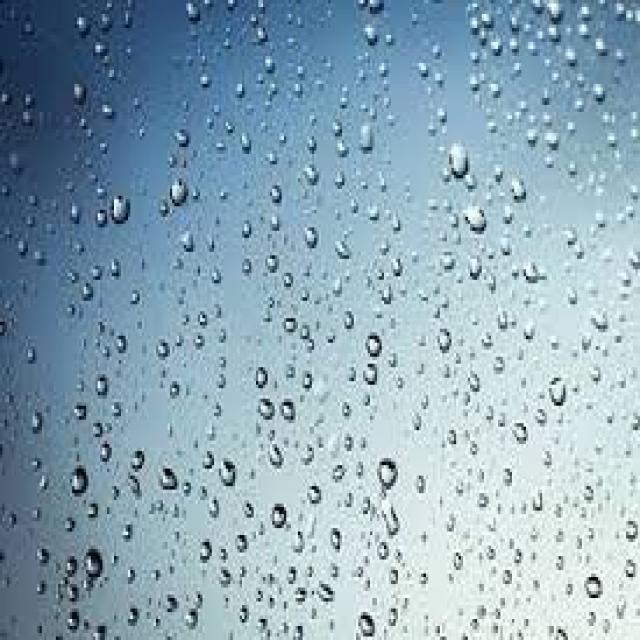raindrop: (62, 459, 98, 508), (548, 368, 576, 420), (374, 452, 404, 498), (152, 458, 184, 501), (76, 544, 108, 584), (106, 188, 136, 230), (358, 113, 384, 160), (264, 492, 292, 534), (260, 432, 286, 475), (254, 385, 278, 431), (464, 201, 492, 239), (248, 357, 276, 395), (431, 322, 456, 364), (362, 324, 388, 364), (446, 136, 469, 180), (214, 452, 238, 494), (300, 218, 324, 260), (582, 564, 608, 602), (356, 605, 382, 640), (26, 403, 48, 442), (298, 157, 324, 190), (169, 169, 188, 214), (466, 247, 488, 285), (70, 76, 93, 112), (260, 250, 284, 284), (128, 441, 150, 478), (521, 257, 544, 291), (63, 398, 89, 428), (268, 174, 288, 212), (360, 358, 382, 392), (276, 394, 300, 424), (98, 438, 118, 473), (436, 246, 459, 276), (234, 526, 254, 560), (195, 535, 214, 568), (200, 444, 218, 477), (94, 366, 112, 399)
